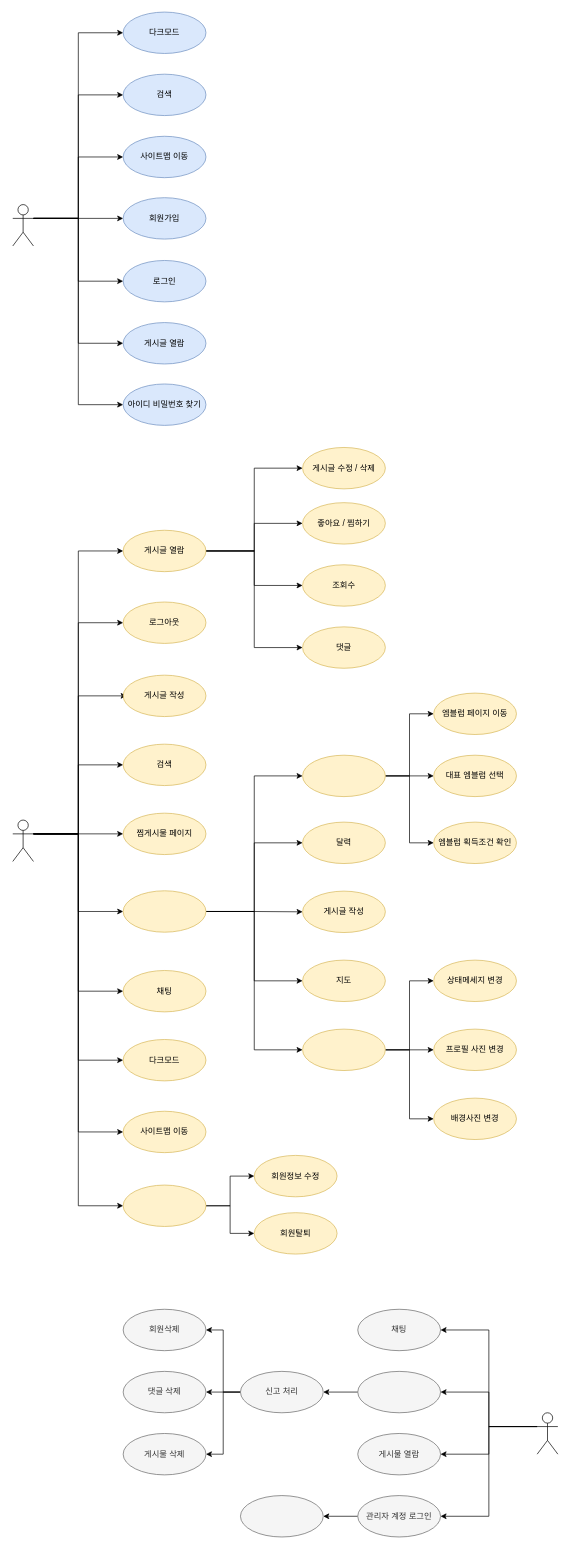
Some shapes in this 571 by 1549 pixel diagram are drawn without their labels. The shapes that lost their labels are listed below. From the top down, each one's centre as x and y in pixels, then its label:
the point at 22,225: 비회원
the point at 343,776: 엠블럼
the point at 22,840: 회원
the point at 164,911: 다이어리페이지 이동
the point at 343,1049: 프로필 관리
the point at 164,1205: 마이페이지이동
the point at 399,1392: 관리자 페이지 이동
the point at 547,1433: 관리자
the point at 281,1516: 관리자 계정 로그아웃
